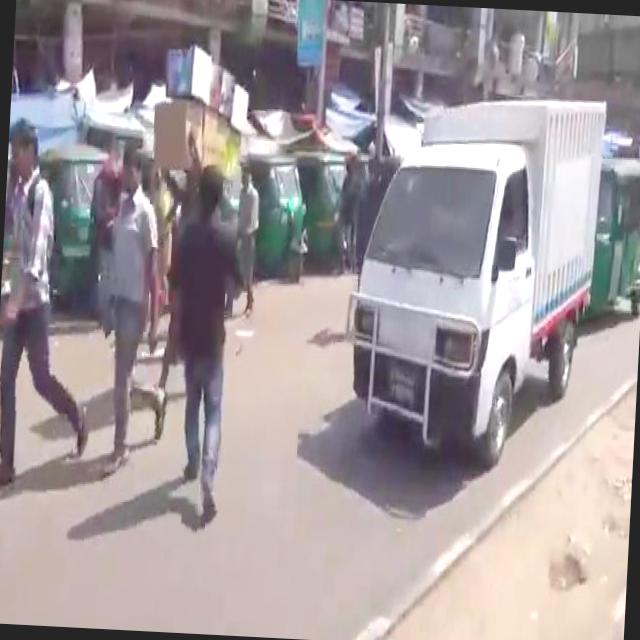motorcycle: (33, 136, 115, 312), (243, 146, 314, 286), (591, 149, 640, 327), (292, 148, 348, 264)
truck: (336, 82, 612, 474)
